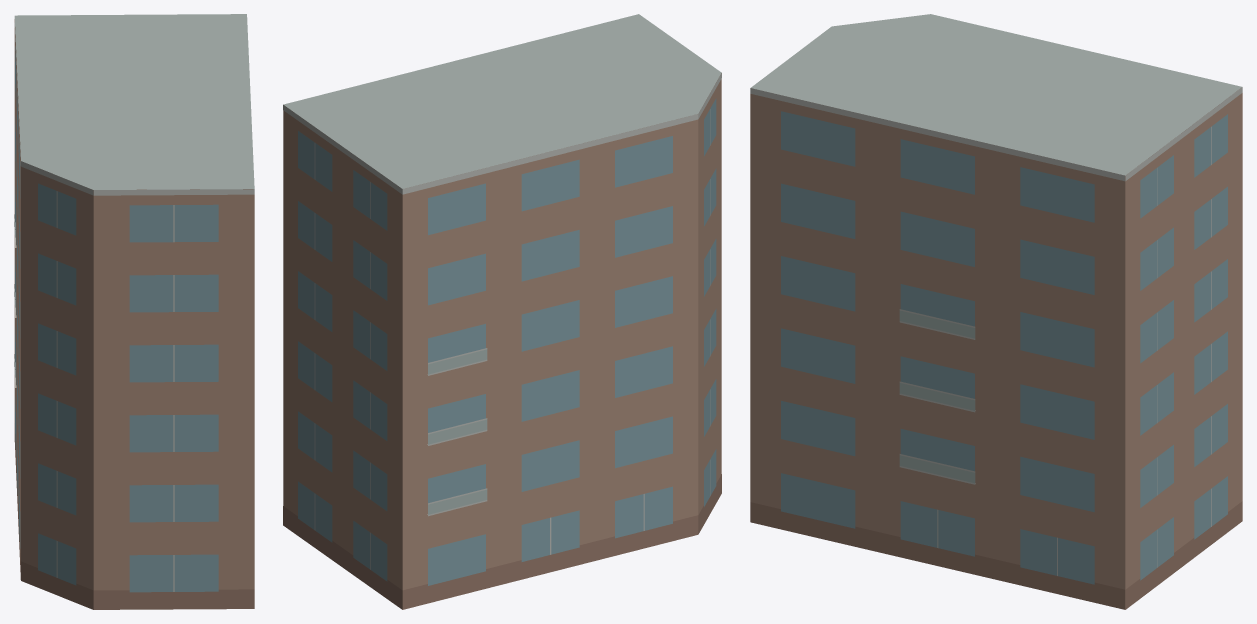
The model's file is survey-upis-32976266.glb.
3 renders of one model, left to right at view 1: azimuth 30°, elevation 25°; view 2: azimuth 150°, elevation 25°; view 3: azimuth 270°, elevation 25°, orthographic. The views are drawn at different scales.
Visible parts, largest first — view 1: survey-upis-32976266.tmp; view 2: survey-upis-32976266.tmp; view 3: survey-upis-32976266.tmp.
Boxes of the visible parts, x1,y1,x2,y2 form: survey-upis-32976266.tmp: (14,14,254,609); survey-upis-32976266.tmp: (283,14,721,609); survey-upis-32976266.tmp: (750,14,1242,609).
Size of the model in its own units: 14.61 by 18.3 by 18.8.
